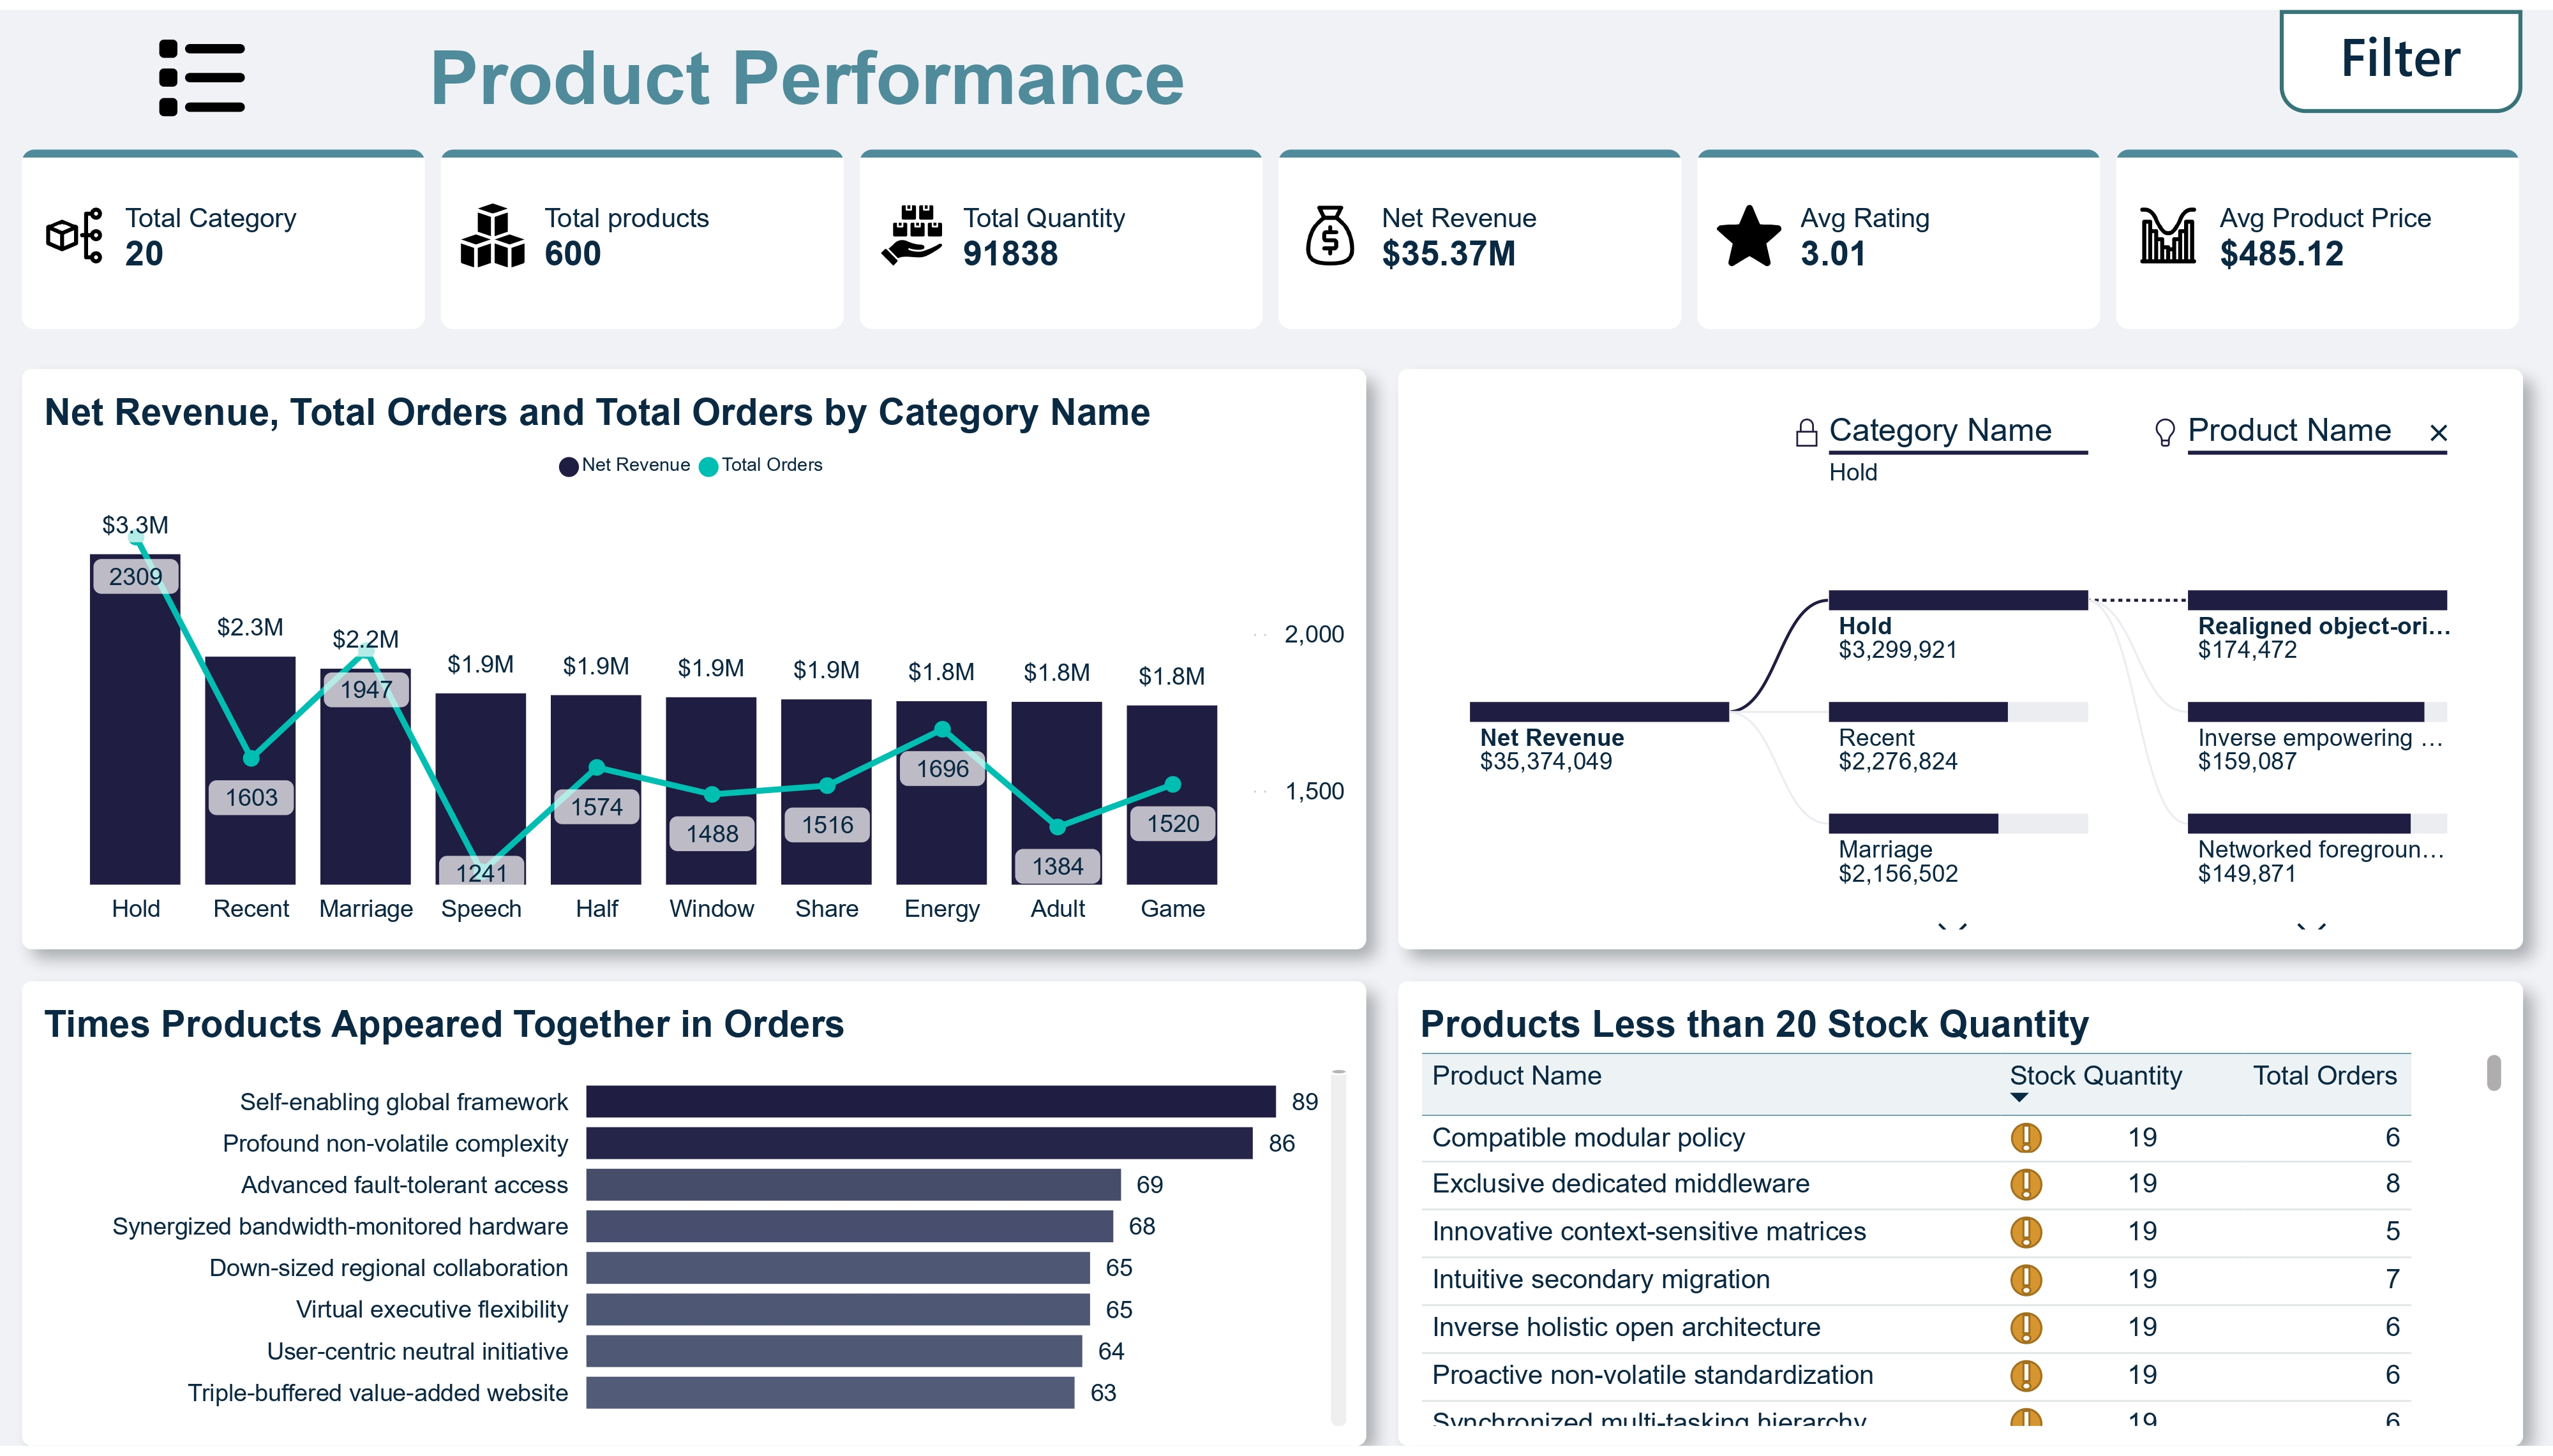

Layout of this report page (visuals, bound fields, positions):
{"tool":"powerbi","page":{"name":"Product Performance","canvas":[1280,720],"ordinal":1},"visuals":[{"type":"cardVisual","fields":{"Data":["Measure.Total Category","Measure.total products","Measure.Total Quantity","Measure.Net Revenue","Measure.Avg Rating","Cards.Avg Product Price"]},"box":[11.2,70,1253.8,90],"z":0},{"type":"decompositionTreeVisual","fields":{"Analyze":["Measure.Net Revenue"],"ExplainBy":["Dim_Product_Flat.Category_name","Dim_Product_Flat.product_name"]},"box":[701.4,180,564.3,291.4],"z":1000},{"type":"clusteredBarChart","title":"Times Products Appeared Together in Orders\n","fields":{"Category":["Dim_Product_Flat.product_name"],"Y":["Sum(ProductsTogether.Products_Together)"]},"box":[11.4,487.1,674.3,232.9],"z":2000},{"type":"tableEx","title":"Products Less than 20 Stock Quantity ","fields":{"Values":["Dim_Product_Flat.product_name","Sum(Dim_Product_Flat.stock_quantity)","Measure.Total Orders"]},"box":[701.4,487.1,564.3,232.9],"z":3000},{"type":"image","box":[32.5,0,135,68.3],"z":4000},{"type":"lineClusteredColumnComboChart","fields":{"Category":["Dim_Product_Flat.Category_name"],"Y2":["Measure.Total Orders"],"Y":["Measure.Net Revenue"]},"box":[11.4,180,674.3,291.4],"z":5000},{"type":"actionButton","title":"Filter Button","box":[1143.3,0,121.7,51.7],"z":6000},{"type":"textbox","box":[215,12.5,490,56.2],"z":10000}]}

Visuals, with their boxes in screenshot pixels (x1, y1, x2, y2), scaled from the page's 1280x720 canvas onto the 2553x1456 screenshot:
cardVisual - Measure.Total Category x Measure.total products: <bbox>22, 142, 2523, 323</bbox>
decompositionTreeVisual - Measure.Net Revenue x Dim_Product_Flat.Category_name: <bbox>1399, 364, 2524, 953</bbox>
"Times Products Appeared Together in Orders
" clusteredBarChart: <bbox>23, 985, 1368, 1455</bbox>
"Products Less than 20 Stock Quantity " tableEx: <bbox>1399, 985, 2524, 1455</bbox>
image: <bbox>65, 0, 334, 138</bbox>
lineClusteredColumnComboChart - Dim_Product_Flat.Category_name x Measure.Total Orders: <bbox>23, 364, 1368, 953</bbox>
"Filter Button" actionButton: <bbox>2280, 0, 2523, 105</bbox>
textbox: <bbox>429, 26, 1406, 139</bbox>
